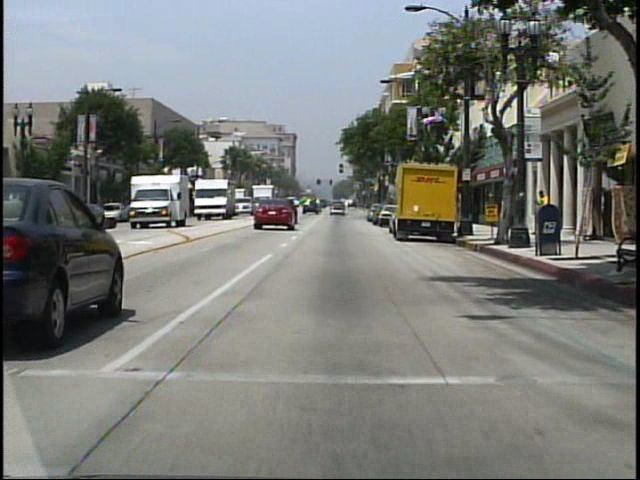person: (533, 188, 550, 237)
